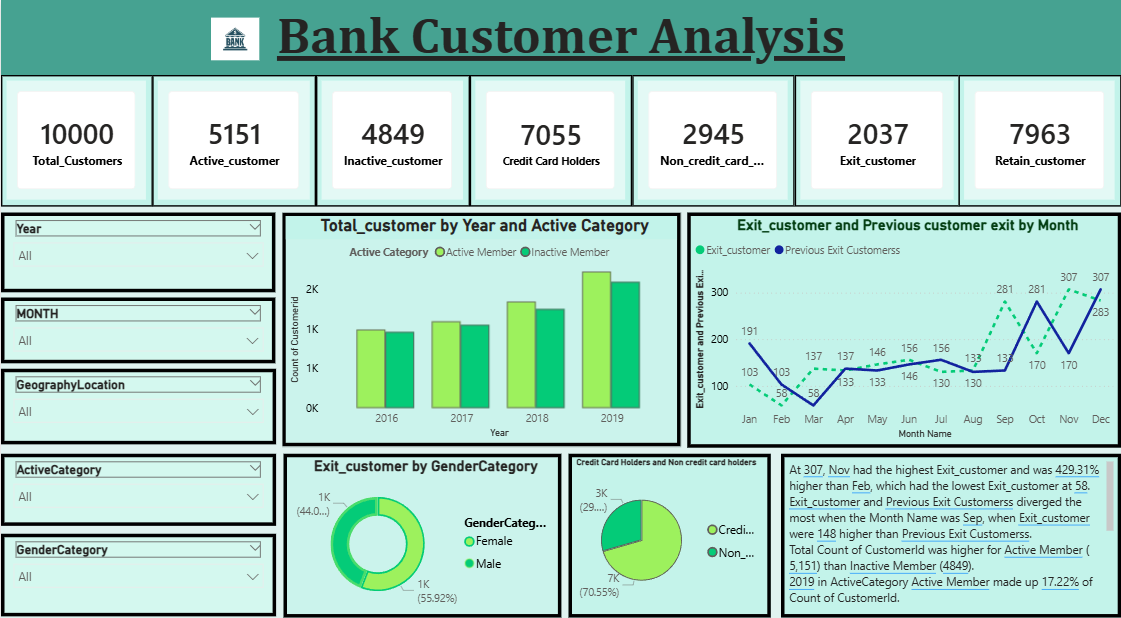

The dashboard page shown, as its layout file describes it:
{"tool":"powerbi","page":{"name":"BANK CUSTOMER ANALYSIS","canvas":[1280,720],"ordinal":0},"visuals":[{"type":"textbox","box":[322.9,117.1,688.6,74.3],"z":0},{"type":"textbox","box":[0,0,1280,87.5],"z":1000},{"type":"slicer","fields":{"Values":["Date.MONTH"]},"box":[0,340,313.8,75],"z":2000},{"type":"slicer","fields":{"Values":["Date.Year"]},"box":[0,242.5,313.8,91.2],"z":3000},{"type":"slicer","fields":{"Values":["Geoghraphy.GeographyLocation"]},"box":[0,422,314,86],"z":4000},{"type":"slicer","fields":{"Values":["ActiveCustomer.ActiveCategory"]},"box":[0,518,314,82],"z":5000},{"type":"slicer","fields":{"Values":["Gender.GenderCategory"]},"box":[0,610,314,94],"z":6000},{"type":"image","box":[240,5,55,77.5],"z":7000},{"type":"clusteredColumnChart","title":"Total_customer by Year and Active Category","fields":{"Category":["Bank_Churn.Year"],"Y":["CountNonNull(Bank_Churn.CustomerId)"],"Series":["Bank_Churn.ActiveCategory"]},"box":[321.2,242.5,455,267.5],"z":8000},{"type":"donutChart","fields":{"Category":["Gender.GenderCategory"],"Y":["Calculation_Table.Exit_customer"]},"box":[322.5,518.8,317.5,187.5],"z":9000},{"type":"pieChart","title":"Credit Card Holders and Non credit card holders","fields":{"Y":["Calculation_Table.Credit_card_holders_pie","Calculation_Table.Non_credit_card_holders_pie"]},"box":[648.8,518.8,231.2,187.5],"z":10000},{"type":"cardVisual","title":"Total_customer","fields":{"Data":["Calculation_Table.Active_customer"]},"box":[172.9,85.7,187.1,150],"z":11000},{"type":"cardVisual","title":"Total_customer","fields":{"Data":["Calculation_Table.Credit_card_holders_pie"]},"box":[535.7,85.7,185.7,150],"z":12000},{"type":"cardVisual","title":"Total_customer","fields":{"Data":["Calculation_Table.Non_credit_card_holders_pie"]},"box":[721.5,85.5,185.5,150],"z":13000},{"type":"cardVisual","title":"Total_customer","fields":{"Data":["Calculation_Table.Exit_customer"]},"box":[907,85.5,189,150],"z":14000},{"type":"cardVisual","title":"Total_customer","fields":{"Data":["Calculation_Table.Retain_customer"]},"box":[1094,85.5,186,150],"z":15000},{"type":"cardVisual","title":"Total_customer","fields":{"Data":["Calculation_Table.Total_Customers"]},"box":[0,85.4,173.8,150],"z":16000},{"type":"cardVisual","title":"Total_customer","fields":{"Data":["Calculation_Table.Inactive_customer"]},"box":[360,85.7,175.7,150],"z":17000},{"type":"lineChart","title":"Exit_customer and Previous customer exit by Month","fields":{"Y":["Calculation_Table.Exit_customer","Calculation_Table.Previous Exit Customerss"],"Category":["Date.Month Name"]},"box":[783.8,242.5,496.2,268.8],"z":18000},{"type":"textbox","box":[891.2,518.8,388.8,187.5],"z":19000}]}

Visuals, with their boxes in screenshot pixels (x1, y1, x2, y2), scaled from the page's 1280x720 canvas onto the 1121x618 screenshot:
textbox: <region>283, 101, 886, 164</region>
textbox: <region>0, 0, 1120, 75</region>
slicer - Date.MONTH: <region>0, 292, 275, 356</region>
slicer - Date.Year: <region>0, 208, 275, 286</region>
slicer - Geoghraphy.GeographyLocation: <region>0, 362, 275, 436</region>
slicer - ActiveCustomer.ActiveCategory: <region>0, 445, 275, 515</region>
slicer - Gender.GenderCategory: <region>0, 524, 275, 604</region>
image: <region>210, 4, 258, 71</region>
"Total_customer by Year and Active Category" clusteredColumnChart: <region>281, 208, 680, 438</region>
donutChart - Gender.GenderCategory x Calculation_Table.Exit_customer: <region>282, 445, 560, 606</region>
"Credit Card Holders and Non credit card holders" pieChart: <region>568, 445, 771, 606</region>
"Total_customer" cardVisual: <region>151, 74, 315, 202</region>
"Total_customer" cardVisual: <region>469, 74, 632, 202</region>
"Total_customer" cardVisual: <region>632, 73, 794, 202</region>
"Total_customer" cardVisual: <region>794, 73, 960, 202</region>
"Total_customer" cardVisual: <region>958, 73, 1120, 202</region>
"Total_customer" cardVisual: <region>0, 73, 152, 202</region>
"Total_customer" cardVisual: <region>315, 74, 469, 202</region>
"Exit_customer and Previous customer exit by Month" lineChart: <region>686, 208, 1120, 439</region>
textbox: <region>780, 445, 1120, 606</region>
